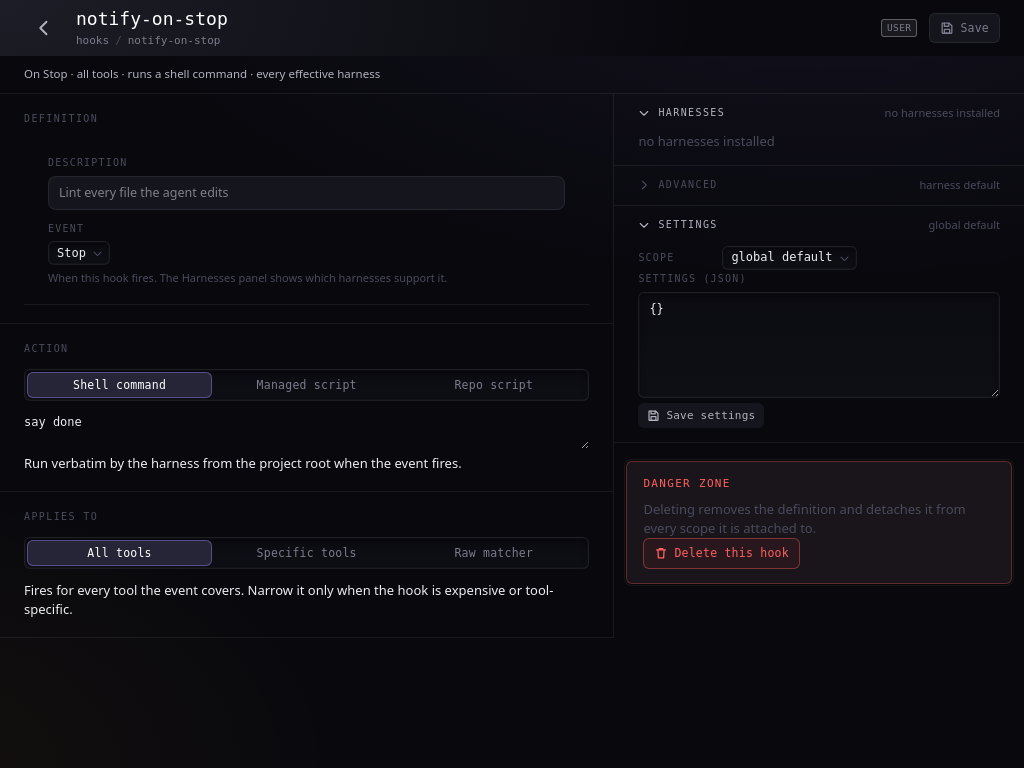
Test: HookEditor — delete flow › says 'not attached anywhere' when the hook has no scopes
The image size is (1024, 768).
Click the button "Delete this hook": point(722, 553) [643,538,800,569]
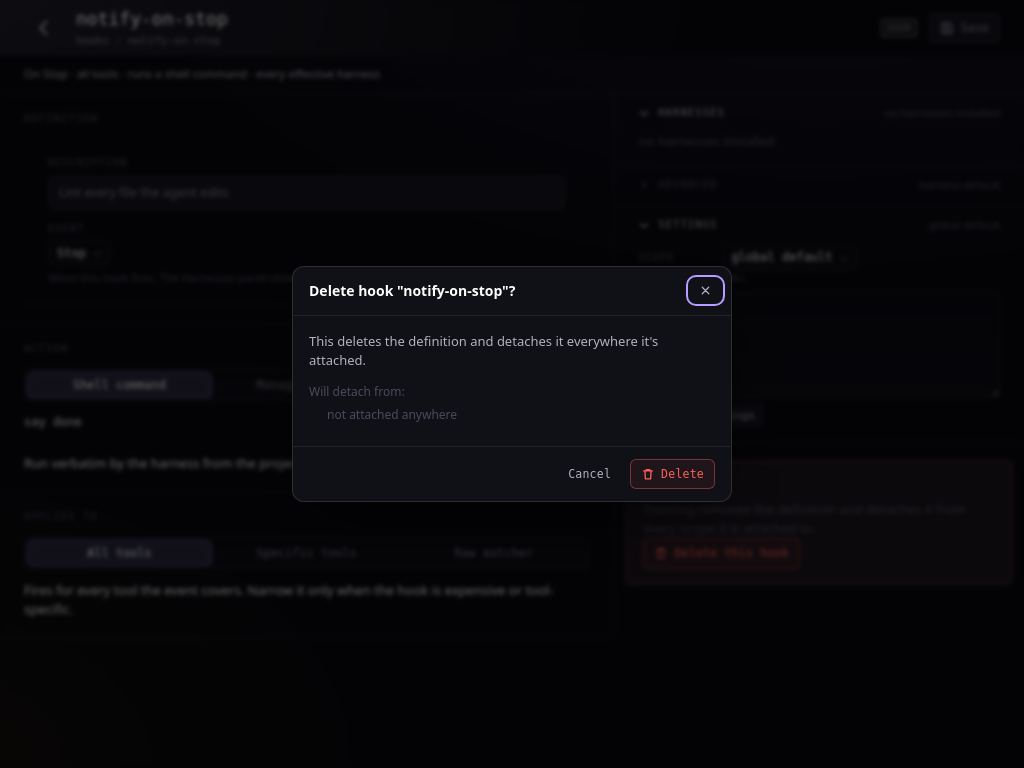
Expected: the dialog does not show "global (all sessions)", [292,266,732,502]
Result: the dialog shows "not attached anywhere" at [327,406,457,423]
